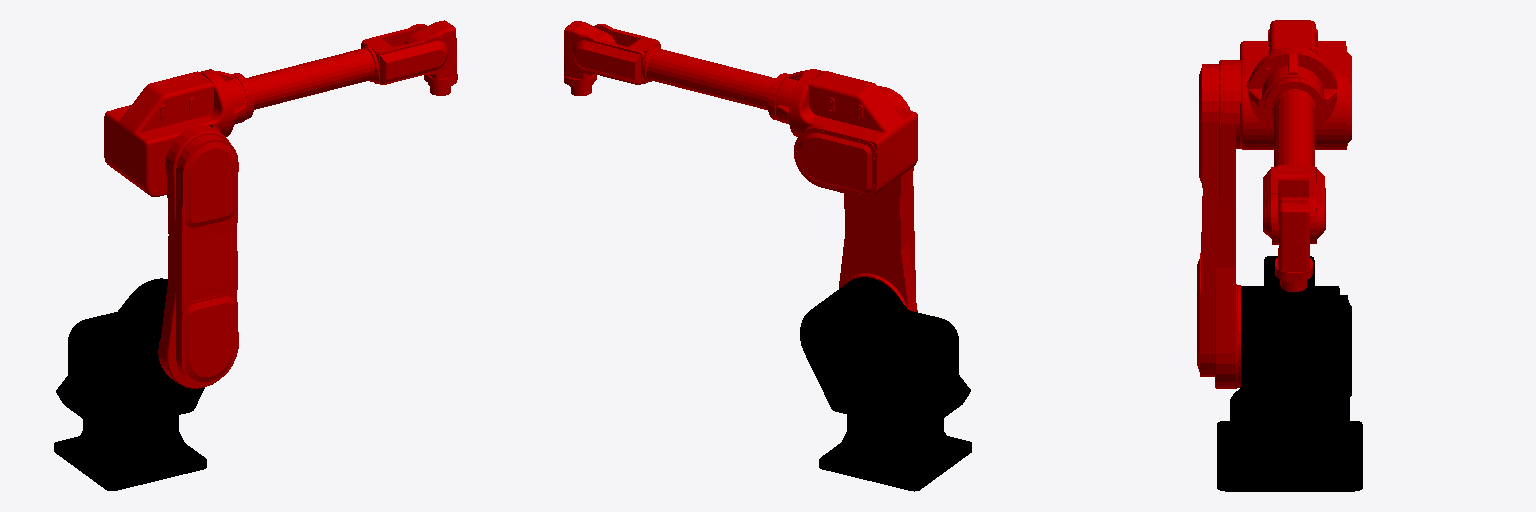
The robot description file, URDF, robot "panasonic":
<?xml version="1.0"?>
<!--
The URDF-file of the Panasonic VR-006L. Here the kinematic and geometric model
is generated for the ROS-driver. First all the links of the robot are specified, 
followed by the joints. 
-->
<robot name="panasonic">
<!--___________________Description of the colours_________________________-->

    <material name="black">
        <color rgba="0 0 0 1" />
    </material>

    <material name="red">
        <color rgba="0.8 0 0 1" />
    </material>


<!--____________________Description of the LINKS______________________________-->
    
    <link name= "base">
        <visual>
            <origin xyz="0 0 0" rpy="0 0 0" />
            <geometry>
                <mesh filename="package://panasonic_vr006l_support/meshes/cad/baseplatform.stl"
				scale=".01 .01 .01"/>
            </geometry>
            <material name="black" />
        </visual>
    </link>

    <link name= "link1">
        <visual>
            <origin xyz="0.01 0.014 0.042" rpy="0 0 -1.57" />
            <geometry>
                <mesh filename="package://panasonic_vr006l_support/meshes/cad/shoulder.stl"
				scale=".01 .01 .01"/>
            </geometry>
            <material name="black" />
        </visual>
    </link>

    <link name= "link2">
        <visual>
            <origin xyz="0 -0.03 0.16" rpy="0 0 1.57" />	<!-- -0.025 0 0.155 -->
            <geometry>
                <mesh filename="package://panasonic_vr006l_support/meshes/cad/upperarm_rotate.stl"
				scale=".01 .01 .01"/>
            </geometry>
            <material name="red" />
        </visual>
    </link>

    <link name= "link3">
        <visual>
            <origin xyz="0.01 0.06 0.04" rpy="0 0 1.57" />
            <geometry>
                <mesh filename="package://panasonic_vr006l_support/meshes/cad/elbow_new.stl"
				scale=".01 .01 .01"/>
            </geometry>
            <material name="red" />
        </visual>
    </link>

    <link name= "link4">
        <visual>
            <origin xyz="0.197 0 0.004" rpy="0 0 1.57 " />
            <geometry>
                <mesh filename="package://panasonic_vr006l_support/meshes/cad/forearm_new.stl"
				scale=".01 .01 .01"/>
            </geometry>
            <material name="red" />
        </visual>
    </link>

    <link name= "link5">
        <visual>
            <origin xyz="0.01 0 -0.008" rpy="1.55 0 1.57" />
            <geometry>
                <mesh filename="package://panasonic_vr006l_support/meshes/cad/frontend_rotate.stl"
				scale=".01 .01 .01"/>
            </geometry>
            <material name="red" />
        </visual>
    </link>

    <link name= "end_effector">
        <origin xyz= "0 0 0" />
    </link>

<!--________________________________Description of the JOINTS____________________________--> 
	
    <joint name="joint_base_link1" type="revolute">
        <parent link= "base"/>
        <child link= "link1"/>
        <origin xyz="0 0 0.06" rpy="0 0 0"/>
	    <axis xyz="0 0 1" />
	    <limit effort="100" lower="-2.705" upper="2.705" velocity="2.09" />
    </joint>

    <joint name="joint_link1_link2" type="revolute">
        <parent link= "link1"/>
        <child link= "link2"/>
       	<origin xyz="0.06 -0.048 0.072" rpy="0 0 0"/> <!-- -0.05 -0.058 0.080-->
	    <axis xyz="0 1 0 " />
	    <limit effort="100" lower="-1.745" upper="2.618" velocity="2.09" /> 
    </joint>
	
    <joint name="joint_link2_link3" type="revolute">
        <parent link= "link2"/>
        <child link= "link3"/>
	    <axis xyz="0 1 0" />
        <origin xyz="0 -0.002 0.243" rpy="0 0 0"/>
	    <limit effort="100" lower="-3" upper="1.3" velocity="2.09" />
    </joint>

    <joint name="joint_link3_link4" type="revolute">
        <parent link= "link3"/>
        <child link= "link4"/>
        <origin xyz="0.085 0.054 0.0425" rpy="0 0 0"/>
	    <axis xyz="1 0 0" />
	    <limit effort="100" lower="-3.316" upper="4.712" velocity="2.09" />
    </joint>

    <joint name="joint_link4_link5" type="revolute">
        <parent link= "link4"/>
        <child link= "link5"/>
        <origin xyz="0.265 0 0" rpy="0 0 0"/>
        <axis xyz="0 1 0" />
	    <limit effort="100" lower="-4.712" upper="4.712" velocity="5.23" />
    </joint>    

    <joint name="joint_link5_endeffector" type="revolute">
        <parent link="link5"/>
        <child link="end_effector"/>
        <origin xyz="0.02 0 -0.126" rpy= "0 0 0"/>
        <axis xyz= " 0 0 1"/>
		<limit effort="100" lower="-6.28" upper="6.28" velocity="5.23"/>
    </joint>

</robot>

--- What the picture shows (computed from the rendered views, not written in the file) ---
3 views of the same robot in one strip: view 1: azimuth 30°, elevation 25°; view 2: azimuth 150°, elevation 25°; view 3: azimuth 270°, elevation 25° (orthographic).
Model panasonic with 7 links and 6 joints (6 revolute), rooted at base, posed all joints at 0.
Visible links, largest first — view 1: link2, link1, link3, link4, base, link5; view 2: link1, link3, link4, link2, base, link5; view 3: link1, link2, base, link3, link4, link5.
Boxes of the visible links, x1,y1,x2,y2 form: link2: (158, 125, 238, 388); link1: (56, 278, 204, 432); link3: (104, 69, 247, 196); link4: (232, 24, 451, 119); base: (54, 415, 206, 490); link5: (405, 20, 457, 95); link1: (800, 277, 970, 432); link3: (776, 69, 917, 198); link4: (569, 24, 790, 120); link2: (839, 86, 917, 311); base: (819, 415, 971, 491); link5: (564, 21, 615, 95); link1: (1240, 256, 1351, 421); link2: (1197, 60, 1240, 388); base: (1217, 389, 1362, 491); link3: (1240, 20, 1351, 149); link4: (1263, 78, 1325, 244); link5: (1275, 197, 1312, 291).
Size in the robot's own frame: 0.5291 by 0.1572 by 0.4831 metres.
6 mesh visuals loaded from 6 distinct referenced files (6 binary STL).